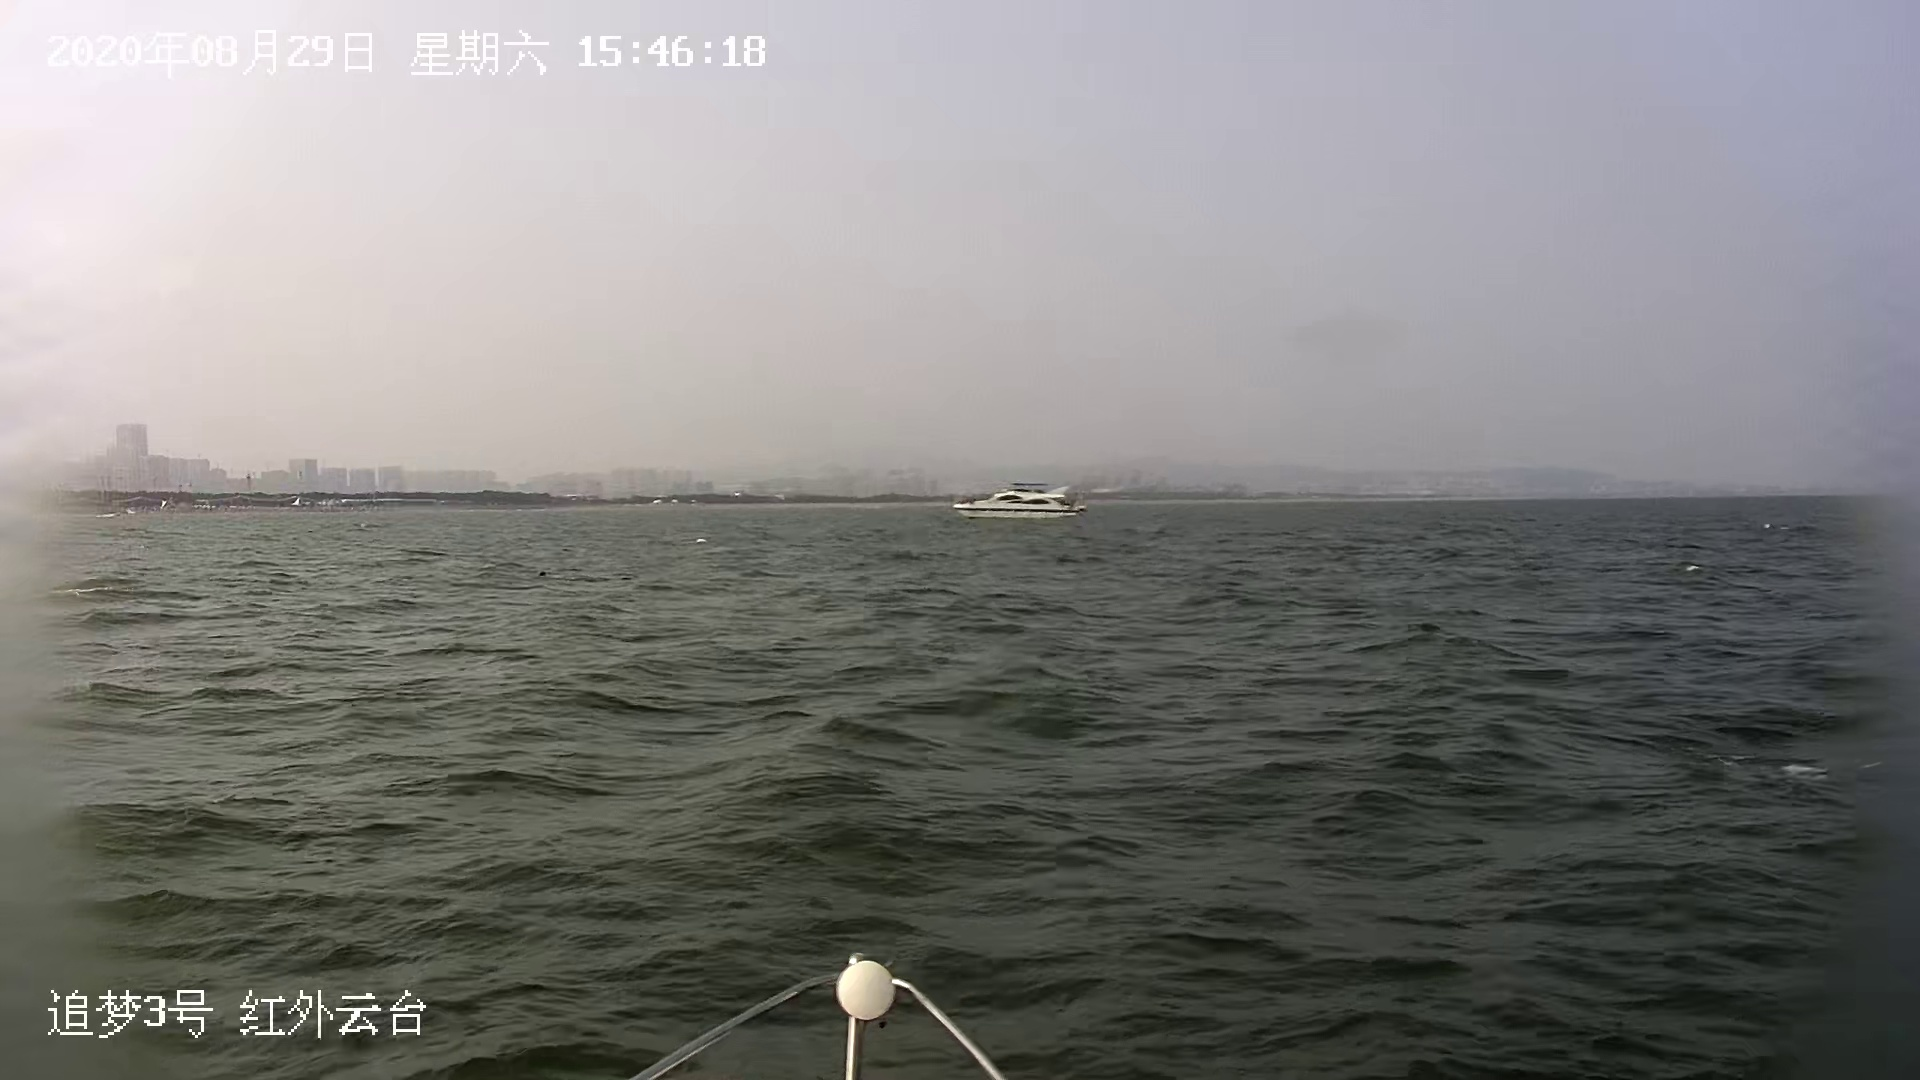barrier: (951, 477, 1093, 522)
coast: (11, 419, 1920, 514)
